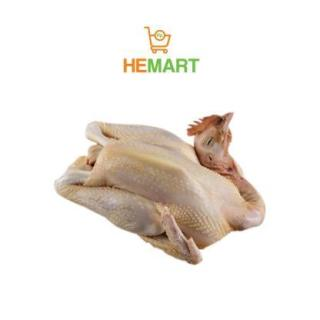Ayam: (56, 117, 265, 266)
